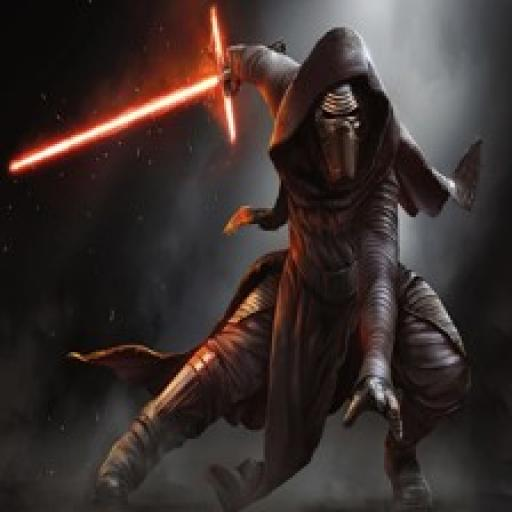lightsaber: (10, 6, 288, 179)
